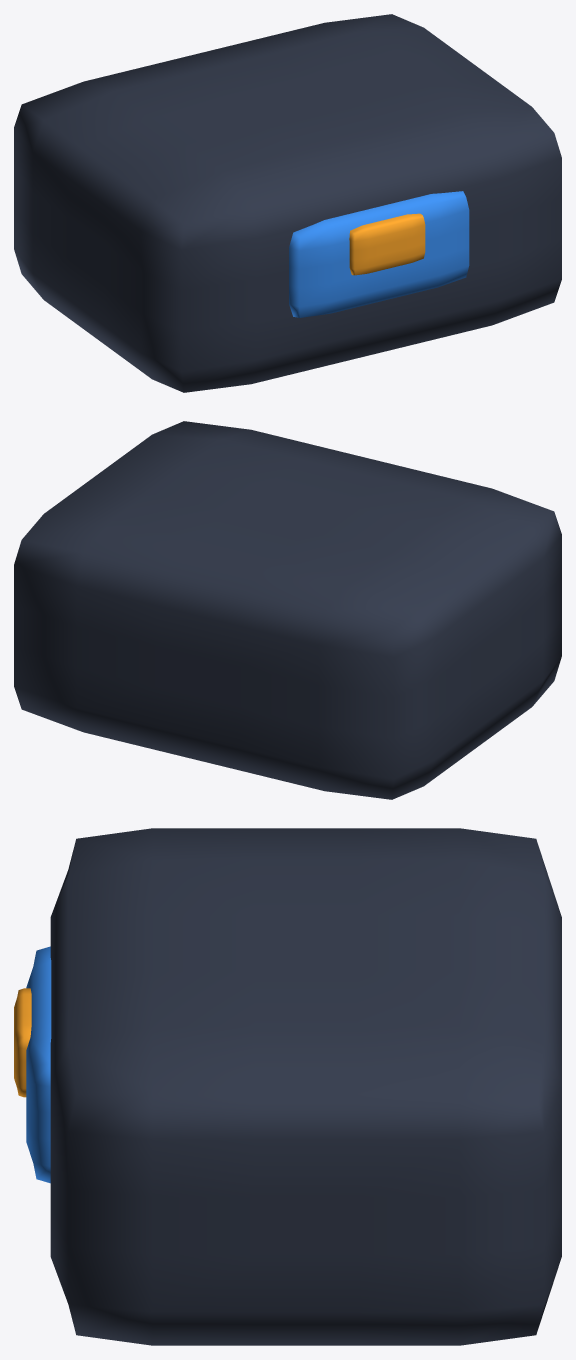
File: pelvis_hip.obj
3 renders of one model, top to bottom at view 1: azimuth 30°, elevation 25°; view 2: azimuth 150°, elevation 25°; view 3: azimuth 270°, elevation 25°, orthographic. The views are drawn at different scales.
Bounding box in the file's own units: 0.54 × 0.26 × 0.45.
